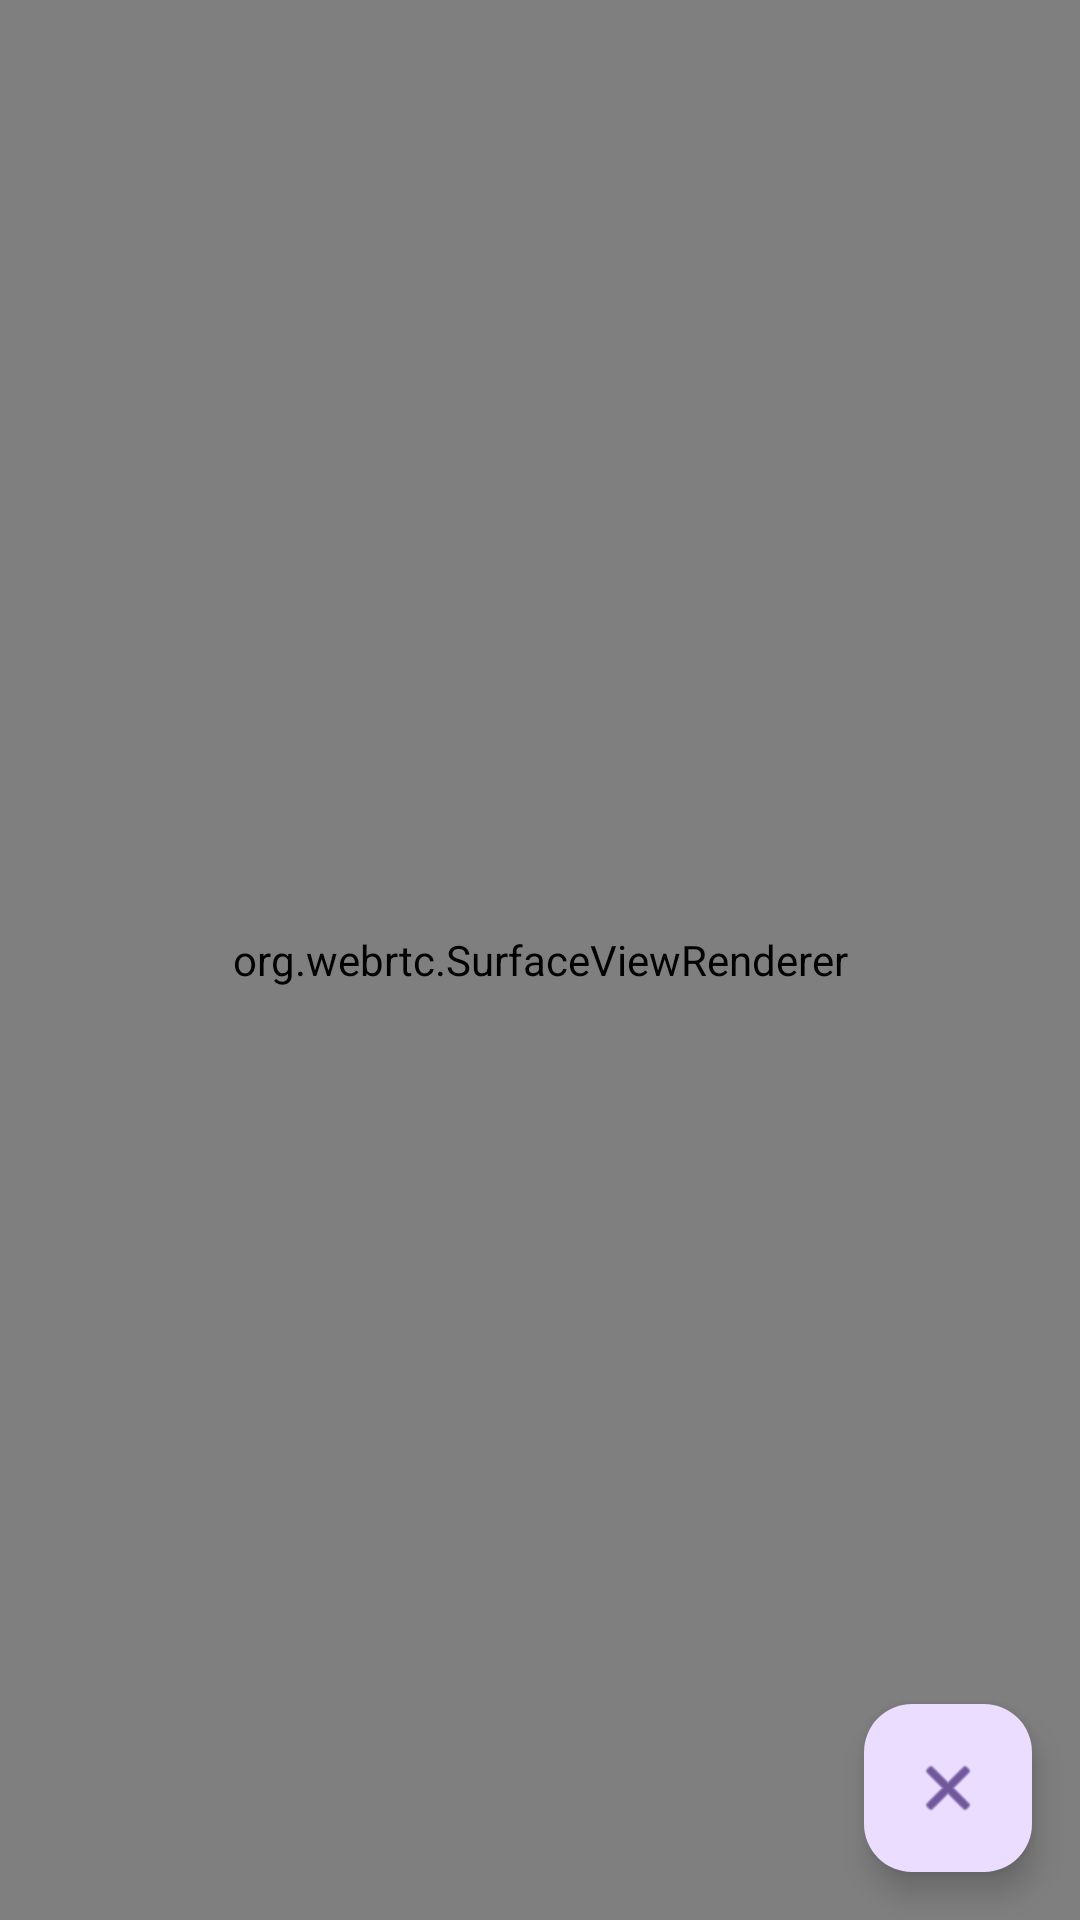

Where to tap for icons on this 1080x1920 app screen, as (x,y):
close clear cancel: (948,1788)
